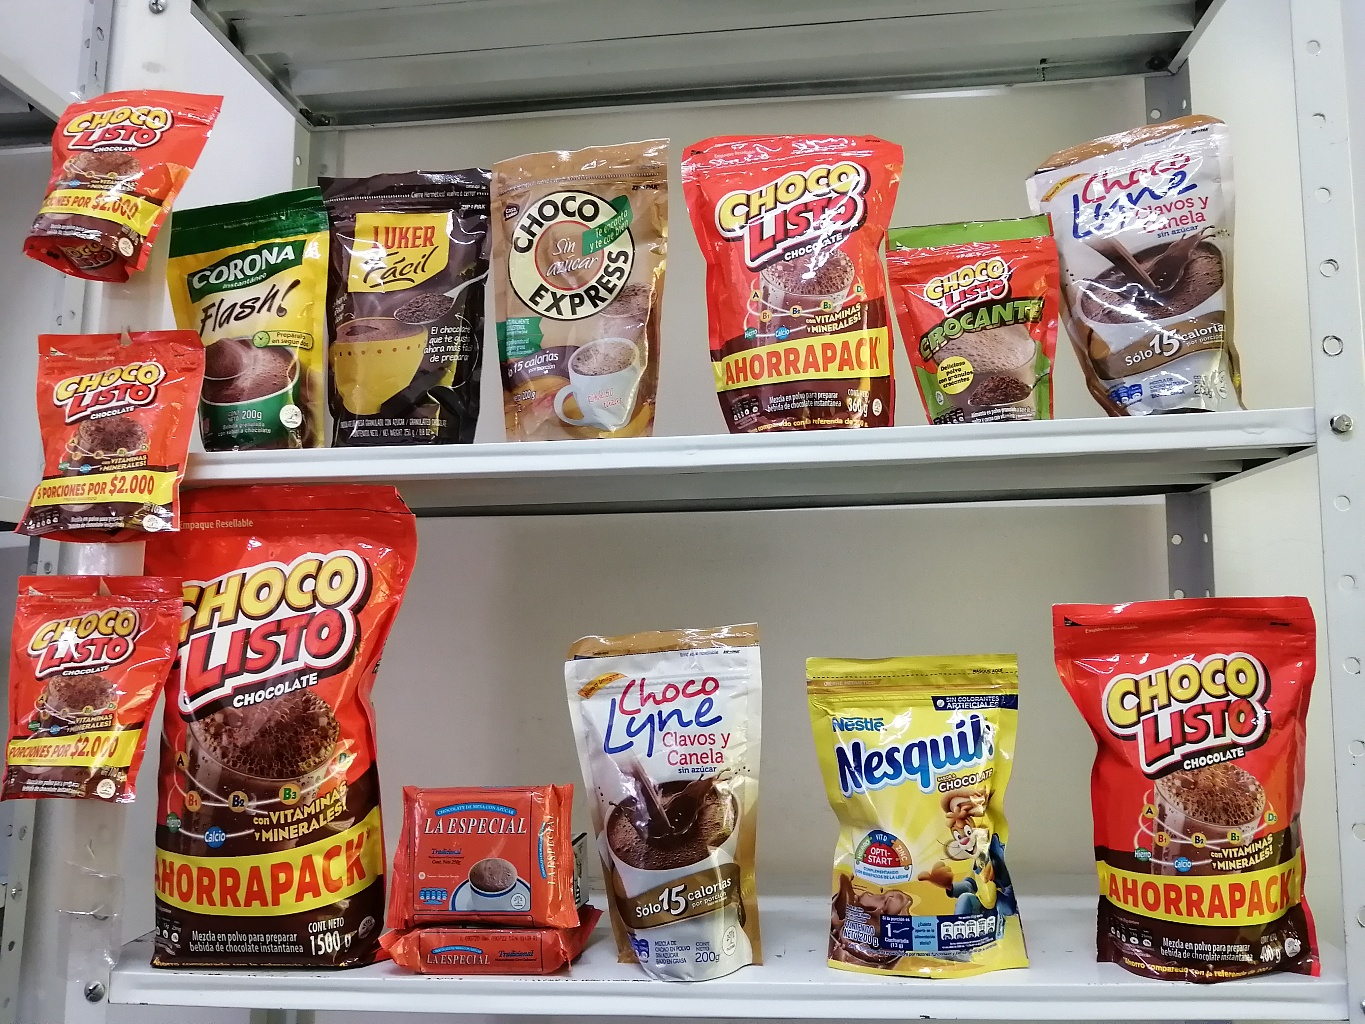COL0170102DYP10000: (866, 202, 1085, 433)
COL0170103DYP1,500: (123, 468, 418, 976)
COL0170103DYP10000: (24, 76, 239, 289)
COL0170103DYP36000: (666, 115, 916, 435)
COL0170103DYP40000: (1038, 583, 1336, 992)
COL0170303DYP20000: (796, 636, 1052, 997)
